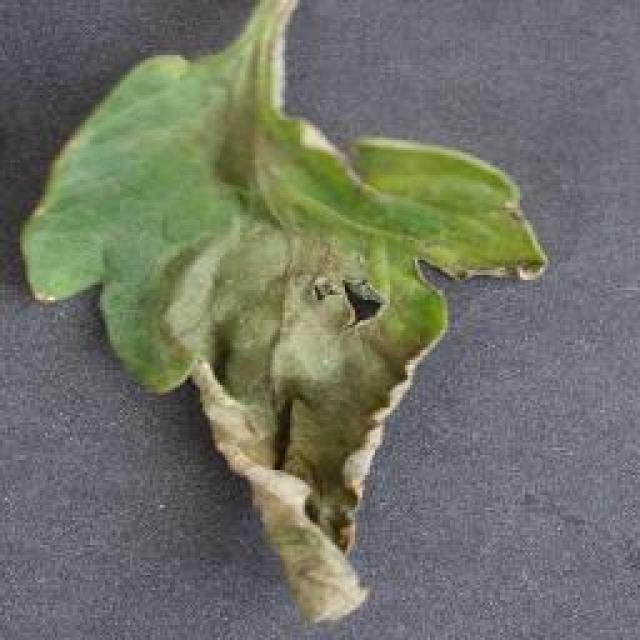Tomato___Late_blight: (18, 1, 551, 625)
